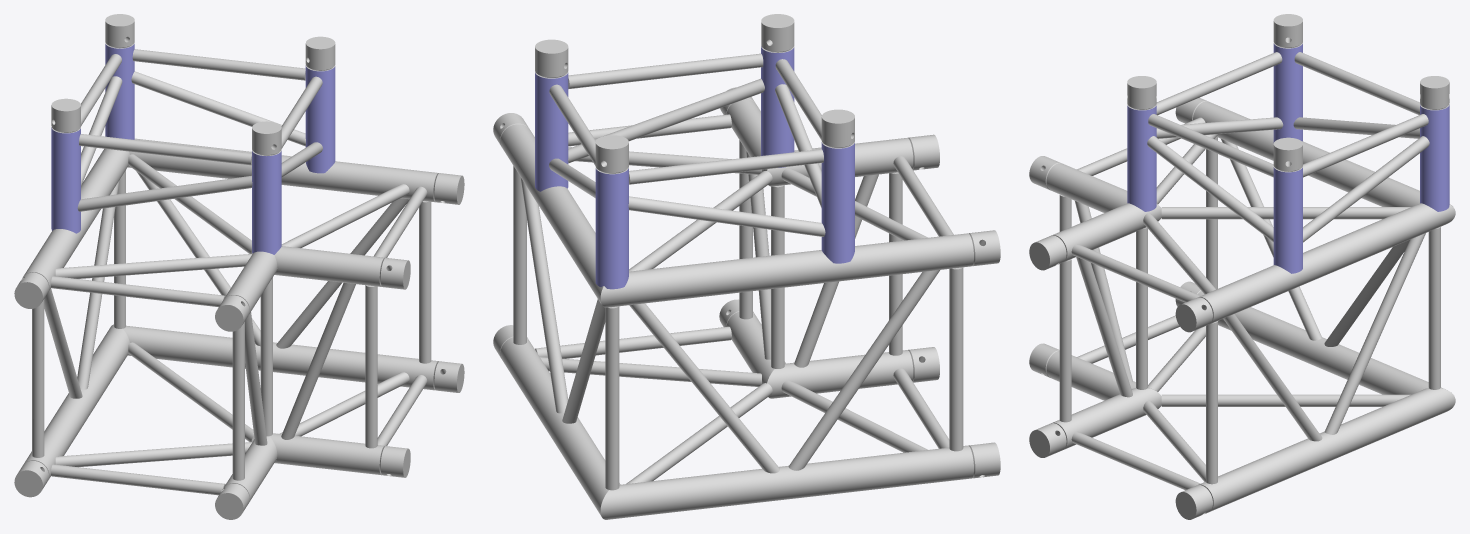
The picture shows the model from 3 angles, left to right: view 1: azimuth 30°, elevation 25°; view 2: azimuth 150°, elevation 25°; view 3: azimuth 270°, elevation 25°; orthographic projection. The views are drawn at different scales.
Parts seen in each view (by area): view 1: =>[0:1:1:2]; view 2: =>[0:1:1:2]; view 3: =>[0:1:1:2].
Part boxes in pixels (x1,y1,x2,y2): =>[0:1:1:2]: (14, 14, 464, 519); =>[0:1:1:2]: (493, 14, 1000, 519); =>[0:1:1:2]: (1029, 14, 1455, 519).
Size of the model in its own units: 0.8485 by 0.6 by 0.6981.
